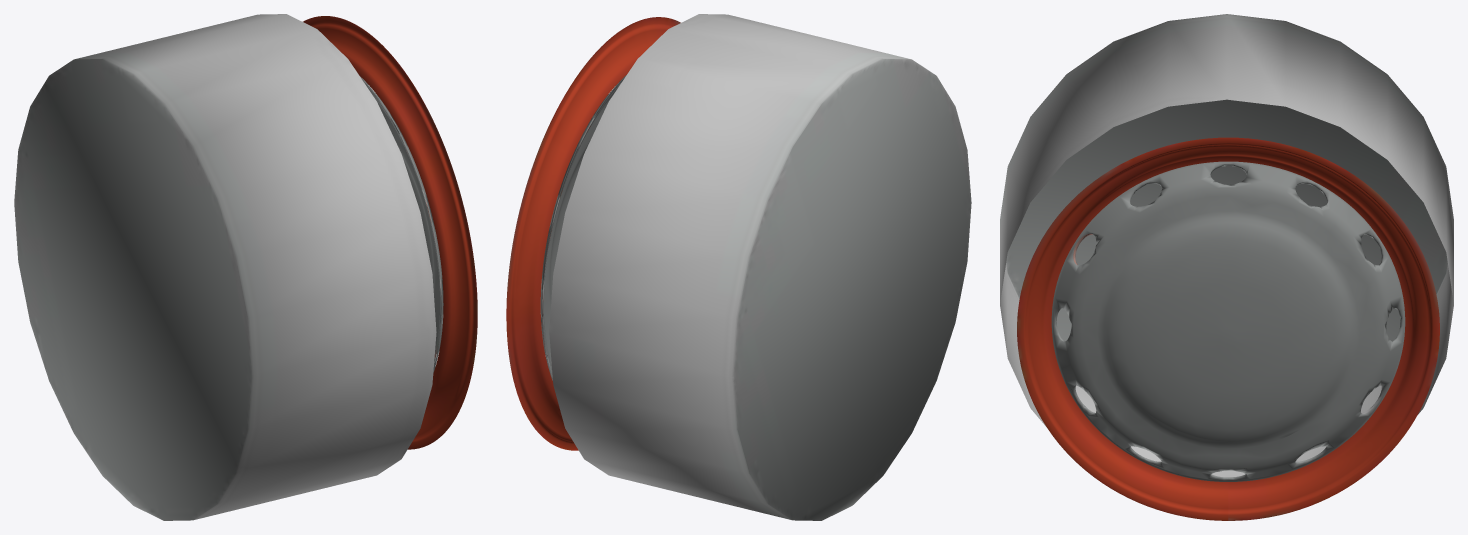
3 renders of one model, left to right at view 1: azimuth 30°, elevation 25°; view 2: azimuth 150°, elevation 25°; view 3: azimuth 270°, elevation 25°, orthographic. The views are drawn at different scales.
Visible parts, largest first — view 1: Zenith; view 2: Zenith; view 3: Zenith.
Boxes of the visible parts, bbox=[...] form: Zenith: bbox=[14, 14, 477, 520]; Zenith: bbox=[506, 14, 971, 520]; Zenith: bbox=[1000, 14, 1453, 520].
Bounding box in the file's own units: 0.7975 × 1.3 × 1.3.
1 material, 1 textured.
